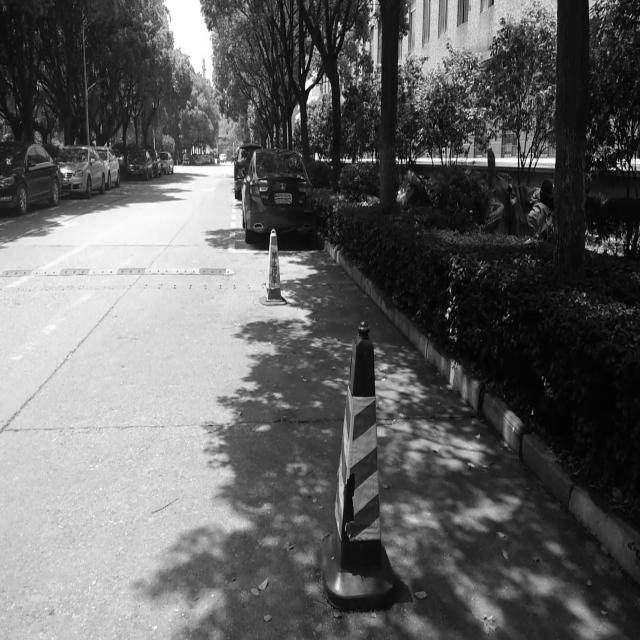car: (240, 146, 314, 242), (1, 138, 62, 214), (58, 144, 105, 197), (96, 145, 120, 189), (126, 150, 154, 182), (158, 151, 174, 174)
motorbike: (479, 152, 555, 241), (398, 162, 442, 210)
pole: (82, 27, 90, 143)
reflective_cone: (316, 315, 398, 608), (260, 228, 286, 304)
